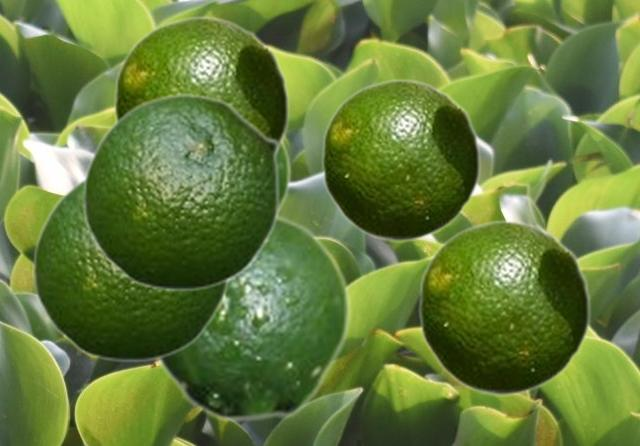calamansi: (153, 210, 351, 422), (82, 93, 280, 291), (32, 174, 230, 362), (417, 219, 591, 395), (320, 78, 481, 241), (112, 15, 290, 152), (278, 138, 291, 214)
